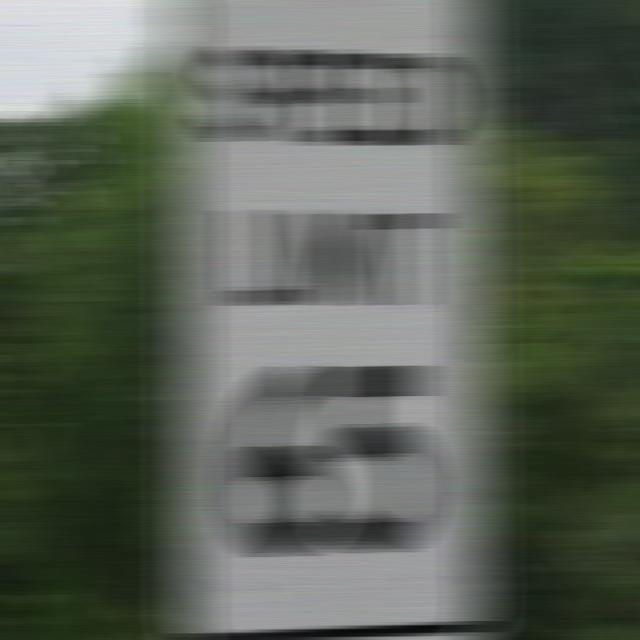speedLimit65: (170, 15, 496, 625)
